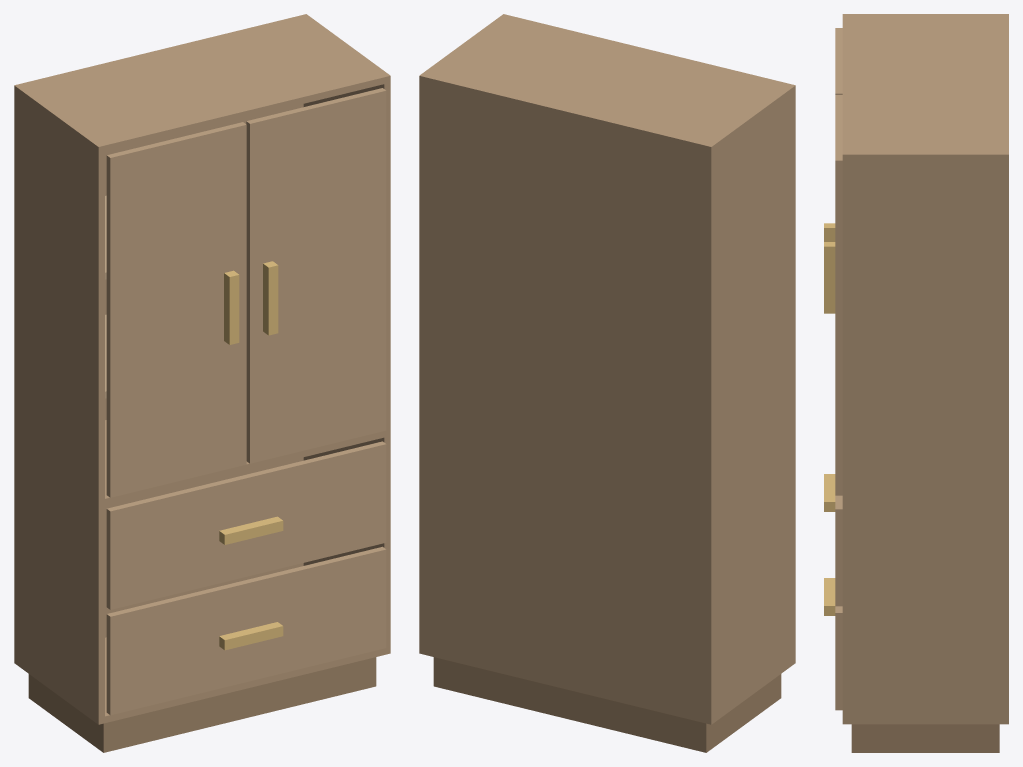
The picture shows the model from 3 angles, left to right: view 1: azimuth 30°, elevation 25°; view 2: azimuth 150°, elevation 25°; view 3: azimuth 270°, elevation 25°; orthographic projection.
Visible parts, largest first — view 1: Doors, Carcass, DrawerFronts, Plinth, Handles; view 2: Carcass, Plinth; view 3: Carcass, Plinth, Doors, Handles, DrawerFronts.
Part boxes in pixels (box(x1,y1,x2,y2)): Doors: box(106, 88, 386, 497); Carcass: box(14, 14, 390, 724); DrawerFronts: box(106, 441, 386, 715); Plinth: box(28, 657, 376, 752); Handles: box(219, 261, 283, 650); Carcass: box(419, 14, 795, 724); Plinth: box(433, 657, 781, 752); Carcass: box(842, 14, 1008, 724); Plinth: box(851, 724, 999, 752); Doors: box(835, 28, 842, 495); Handles: box(824, 223, 835, 615); DrawerFronts: box(835, 495, 842, 710).
Bounding box in the file's own units: 0.9 × 1.8 × 0.5.
